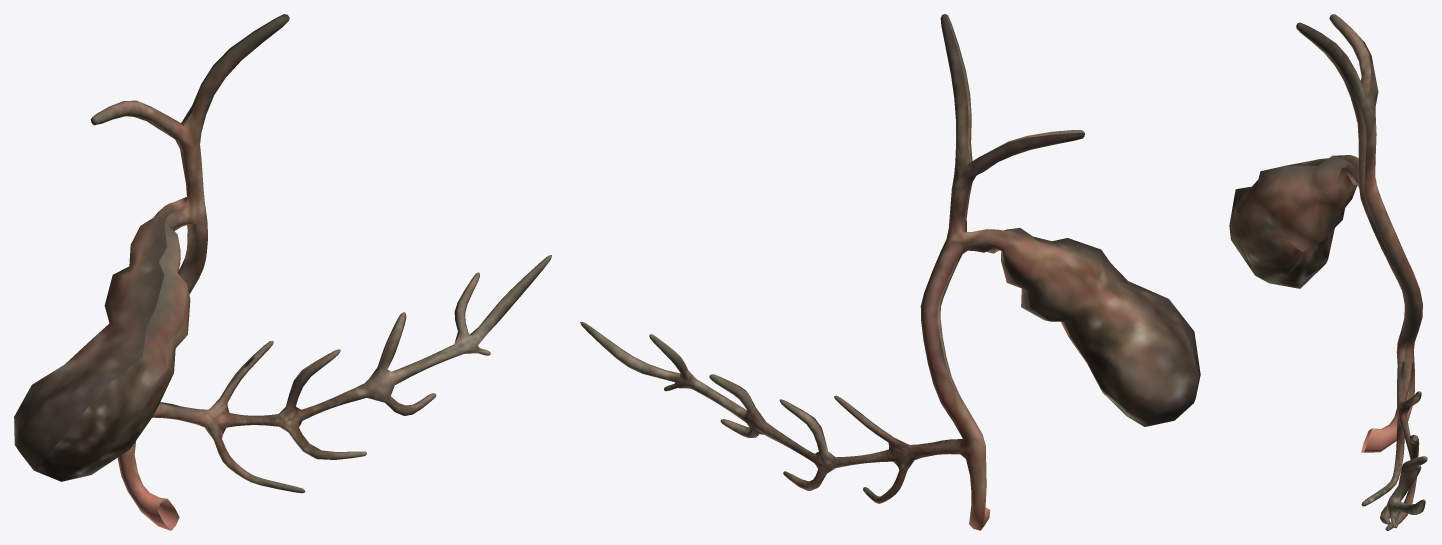
The model's file is 男性_消化系统_胆囊.FBX.
3 views of the same model, side by side, from view 1: azimuth 30°, elevation 25°; view 2: azimuth 150°, elevation 25°; view 3: azimuth 270°, elevation 25° (orthographic). The views are drawn at different scales.
Parts seen in each view (by area): view 1: 男性_消化系统_胆囊; view 2: 男性_消化系统_胆囊; view 3: 男性_消化系统_胆囊.
Boxes of the visible parts, x1,y1,x2,y2 form: 男性_消化系统_胆囊: [14, 14, 551, 530]; 男性_消化系统_胆囊: [580, 14, 1200, 530]; 男性_消化系统_胆囊: [1229, 14, 1427, 530].
Bounding box in the file's own units: 11.97 × 9.82 × 3.8.
